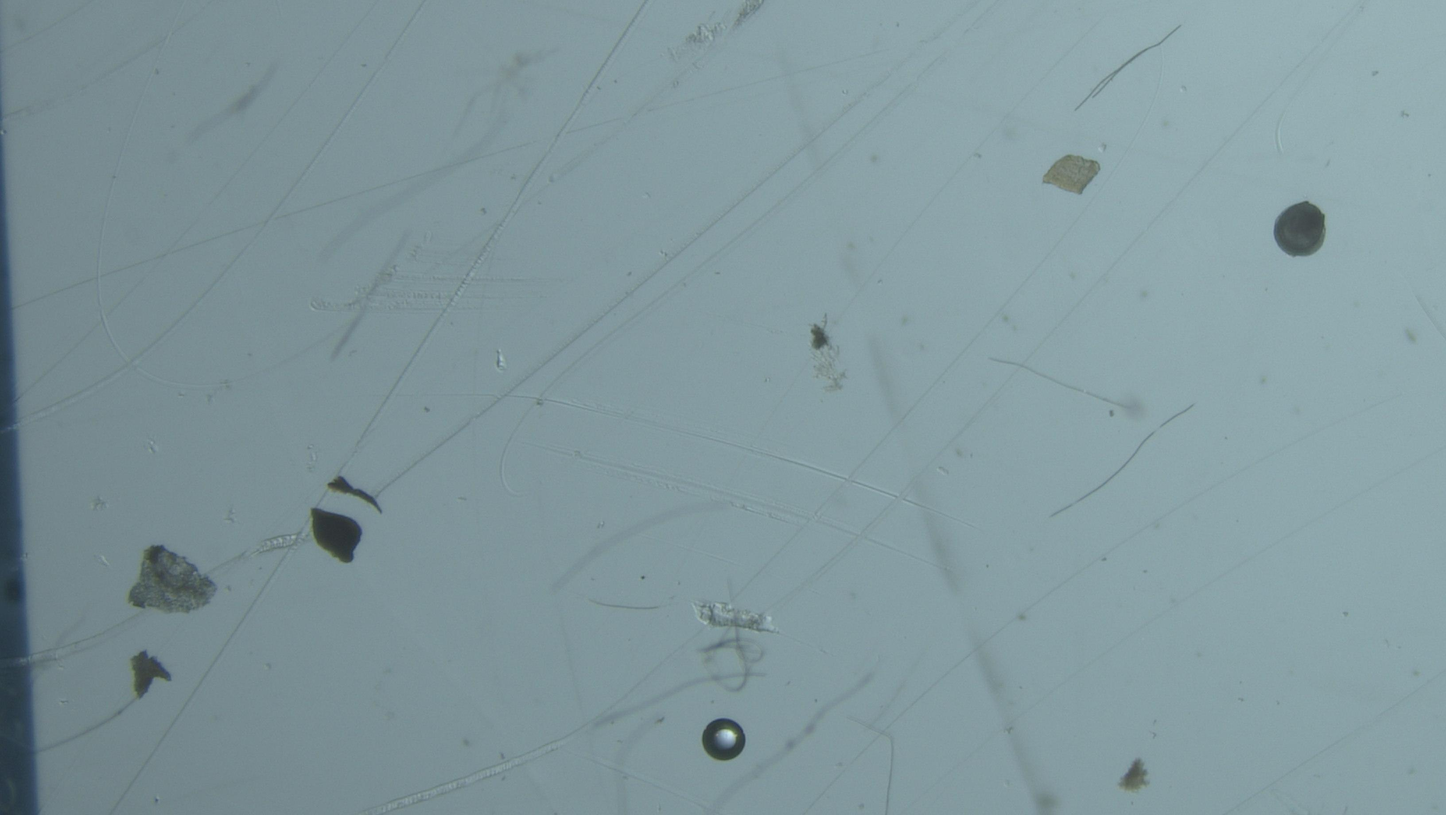live: (1274, 201, 1326, 256)
